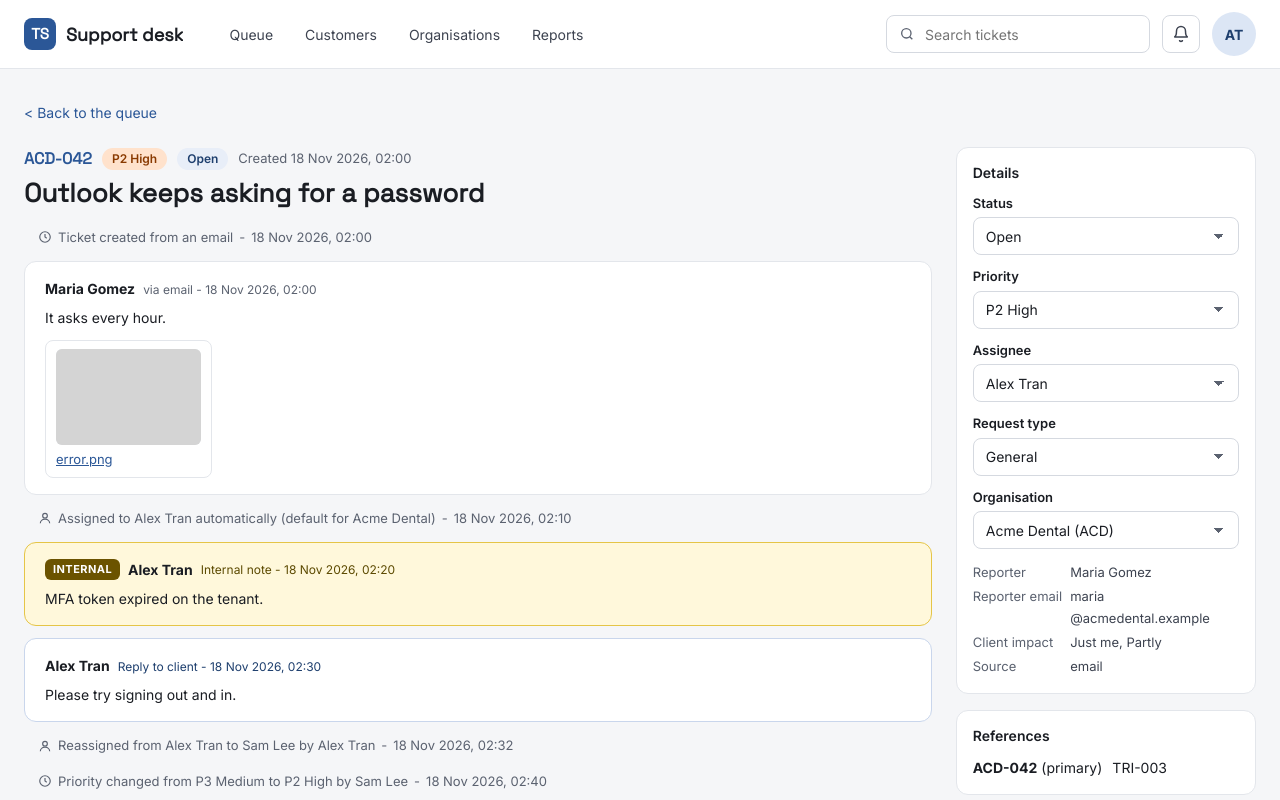
Test case: Ticket actions › a priority change that never reaches the server says the connection was lost
The image size is (1280, 800).
Expected: the heading "Outlook keeps asking for a password" is shown, [24,176,484,210]
Select "P1 Critical" in the dropdown labelled "Priority" at {"x": 1106, "y": 310}, box [973,290,1239,328]
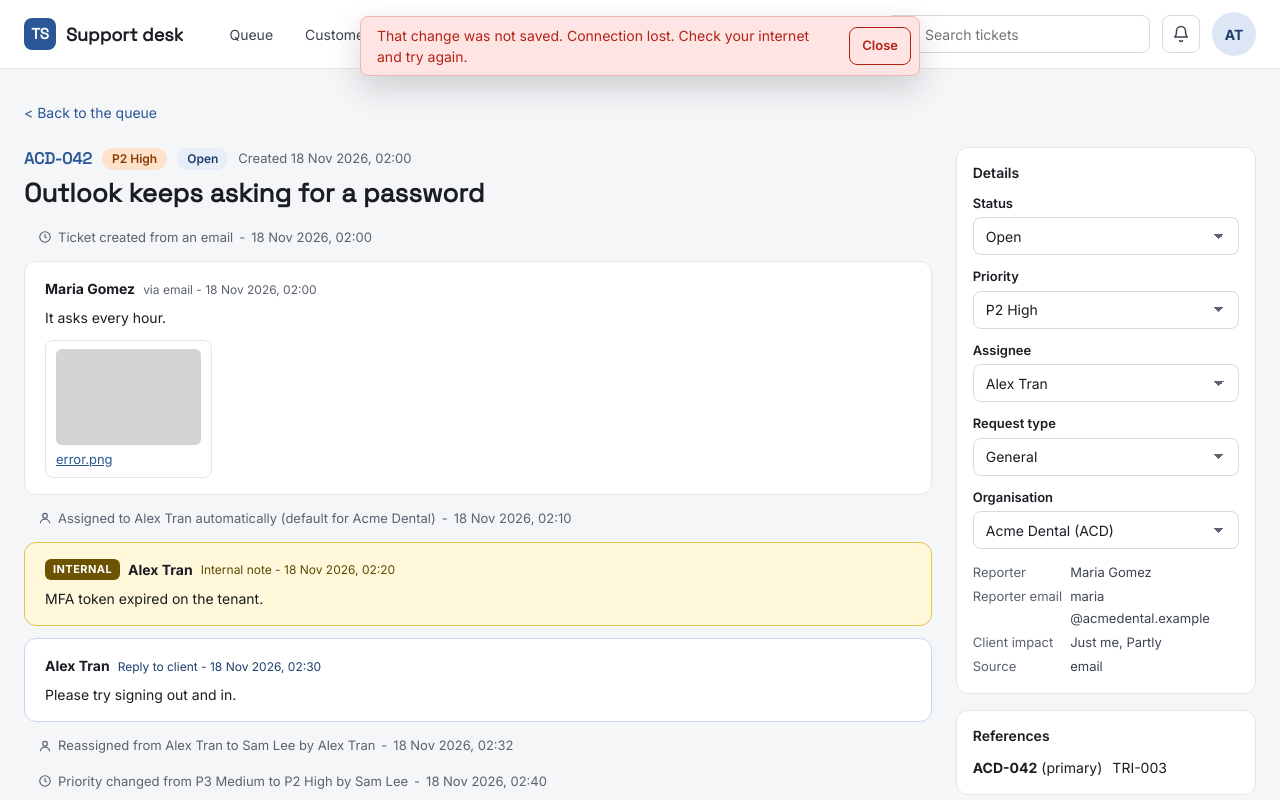
Result: the text "That change was not saved. Connection lost. Check your internet and try again." is shown at [377,25,837,67]
